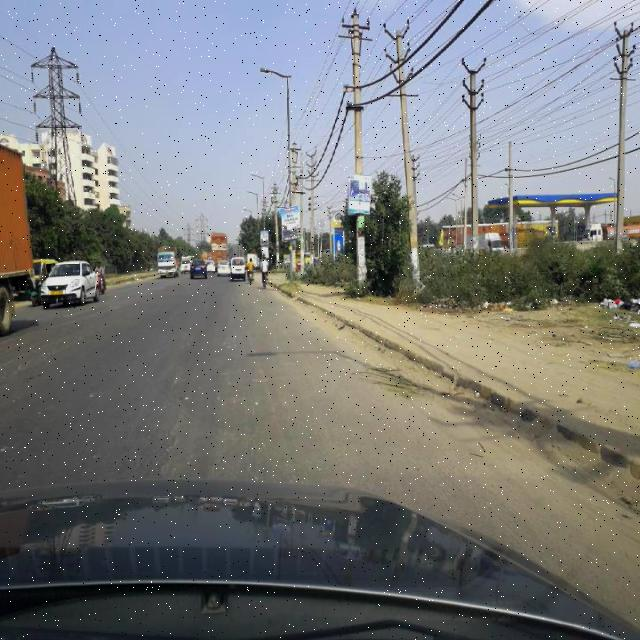D00: (150, 394, 188, 481)
